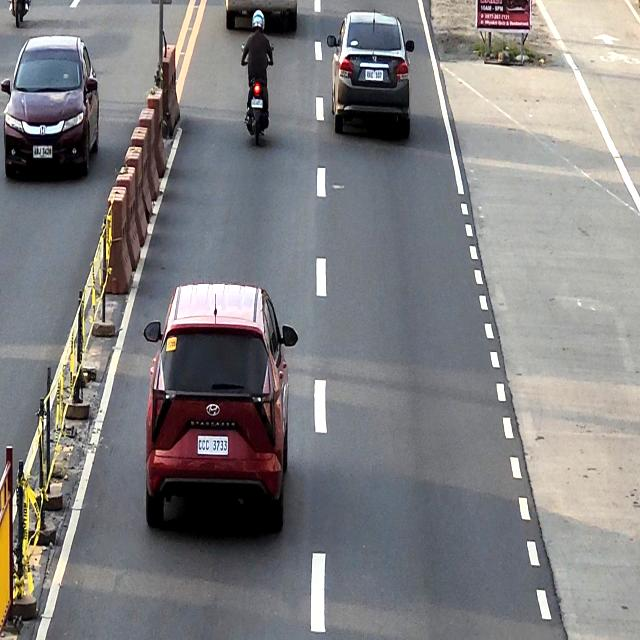Car: (144, 284, 298, 534), (0, 34, 100, 180), (327, 11, 415, 141)
License-Plate: (197, 436, 229, 456), (32, 146, 52, 158), (365, 69, 383, 81), (251, 98, 263, 108)
Motorcycle: (240, 40, 276, 146)
